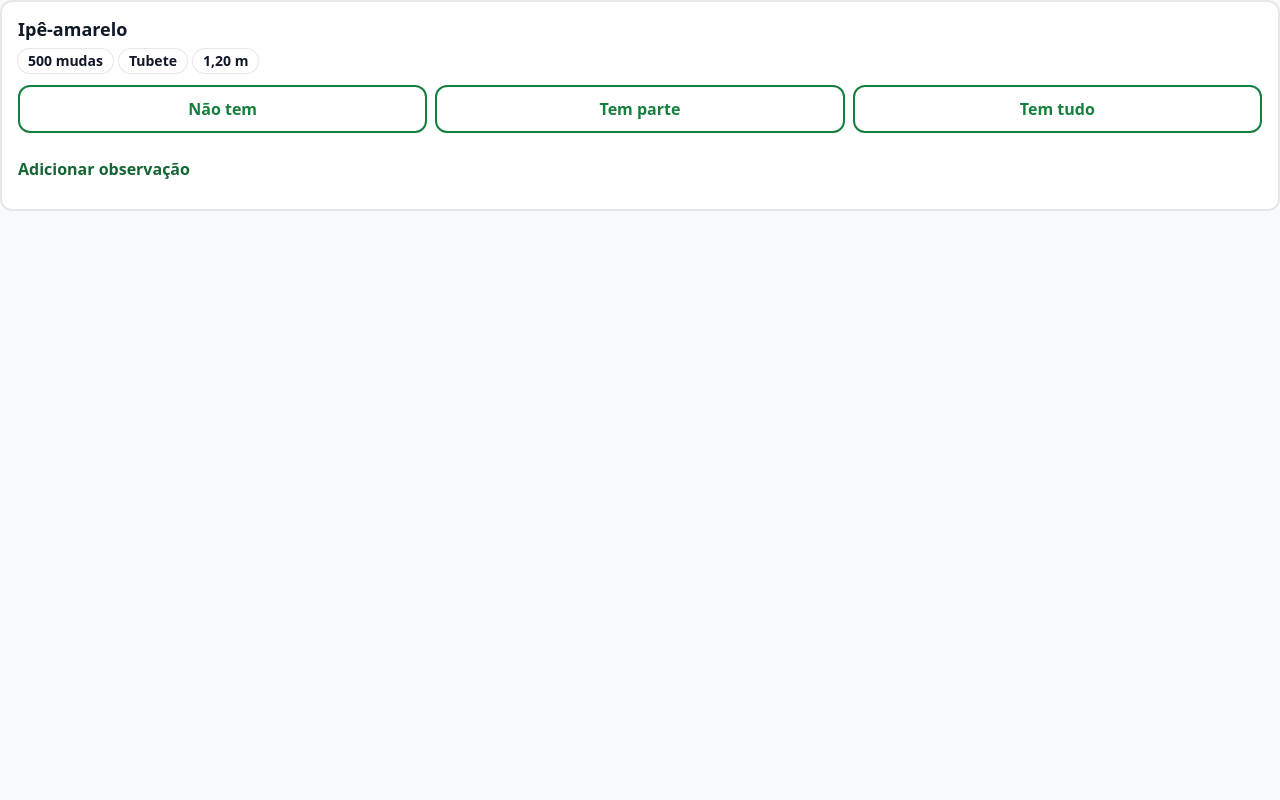
Scenario: VerificacaoItem, "Tem parte" › pergunta tudo o que foi especificado, já preenchido com o pedido
Click the button "Tem parte". click: [640, 108]
box: [435,84,845,132]
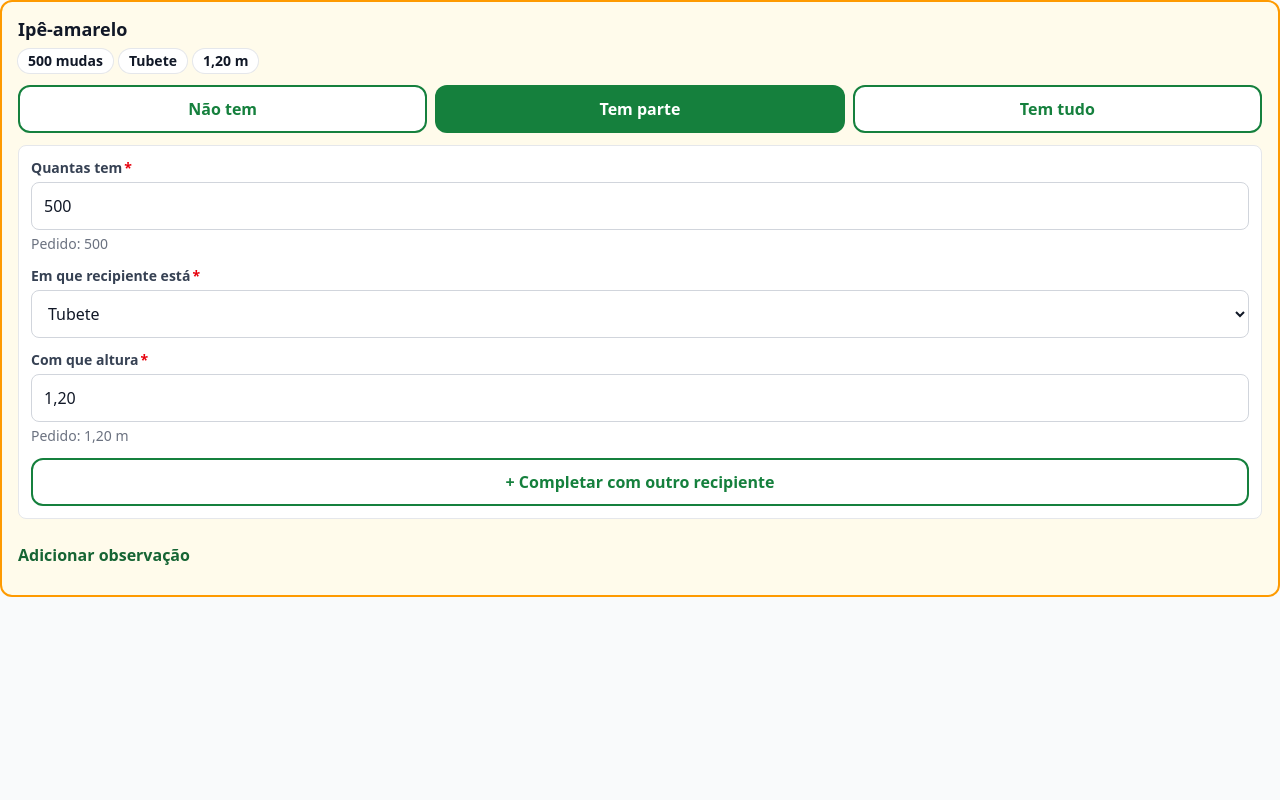
Expected: the field labelled "Quantas tem" holds "500", [31,182,1249,230]
Expected: the dropdown labelled "Em que recipiente está" shows "Tubete", [31,290,1249,338]
Expected: the field labelled "Com que altura" holds "1,20", [31,374,1249,422]
